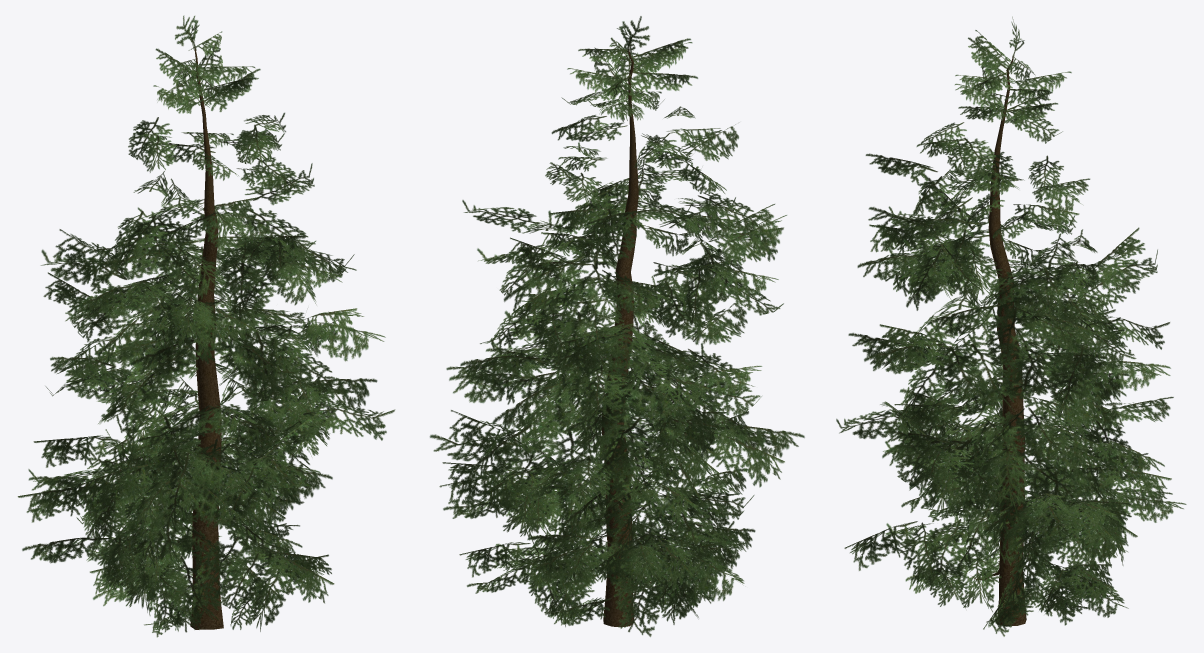
Rendered from fir1_far.glb.
The picture shows the model from 3 angles, left to right: view 1: azimuth 30°, elevation 25°; view 2: azimuth 150°, elevation 25°; view 3: azimuth 270°, elevation 25°; orthographic projection. The views are drawn at different scales.
Visible parts, largest first — view 1: Christmas tree_LOD2_Brunches_Mat_0, Christmas tree_LOD2_Bark_Mat_0; view 2: Christmas tree_LOD2_Brunches_Mat_0, Christmas tree_LOD2_Bark_Mat_0; view 3: Christmas tree_LOD2_Brunches_Mat_0, Christmas tree_LOD2_Bark_Mat_0.
Part boxes in pixels (x1,y1,x2,y2): Christmas tree_LOD2_Brunches_Mat_0: (17, 15, 395, 637); Christmas tree_LOD2_Bark_Mat_0: (190, 47, 223, 629); Christmas tree_LOD2_Brunches_Mat_0: (429, 16, 804, 636); Christmas tree_LOD2_Bark_Mat_0: (602, 48, 651, 627); Christmas tree_LOD2_Brunches_Mat_0: (836, 16, 1186, 636); Christmas tree_LOD2_Bark_Mat_0: (972, 55, 1026, 626).
Size of the model in its own units: 5.23 by 9.32 by 5.04.
2 materials, 2 textured.
